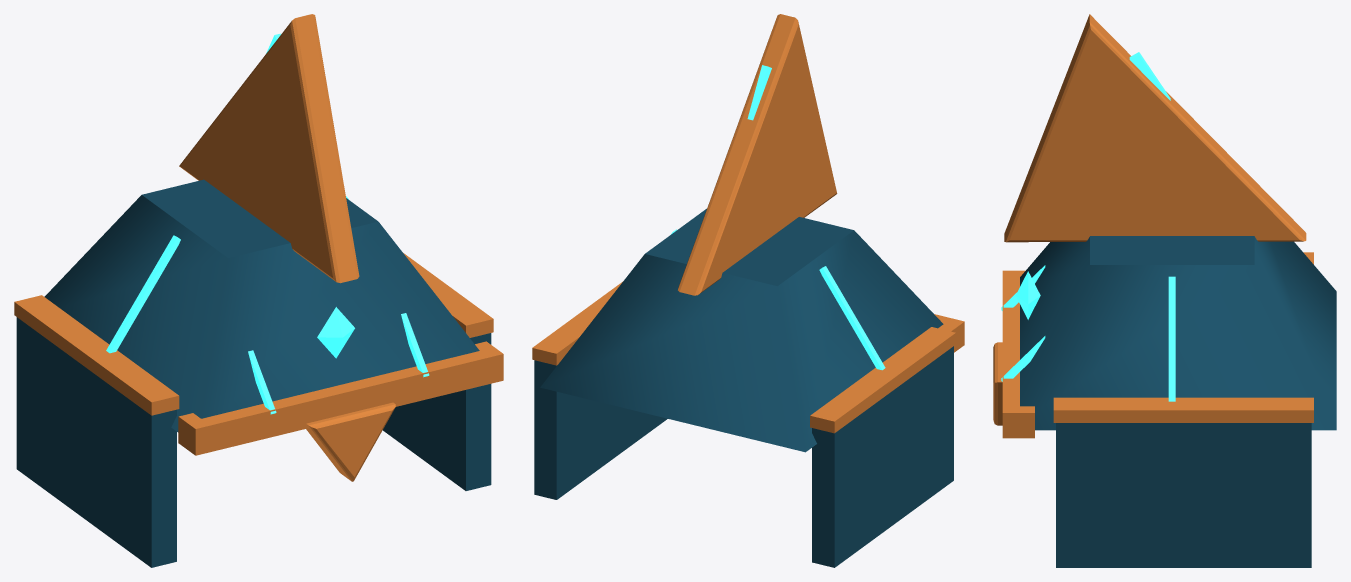
The model's file is hat_eqsu3.glb.
The picture shows the model from 3 angles, left to right: view 1: azimuth 30°, elevation 25°; view 2: azimuth 150°, elevation 25°; view 3: azimuth 270°, elevation 25°; orthographic projection. The views are drawn at different scales.
Bounding box in the file's own units: 2.33 × 3.24 × 2.14.
